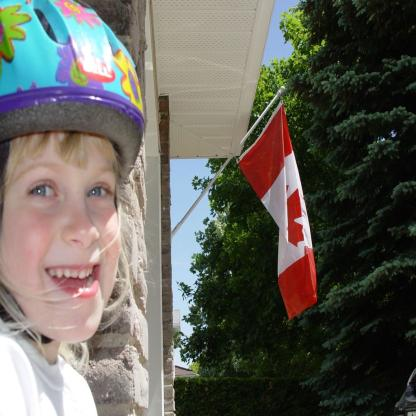Helmet: (0, 0, 144, 305)
